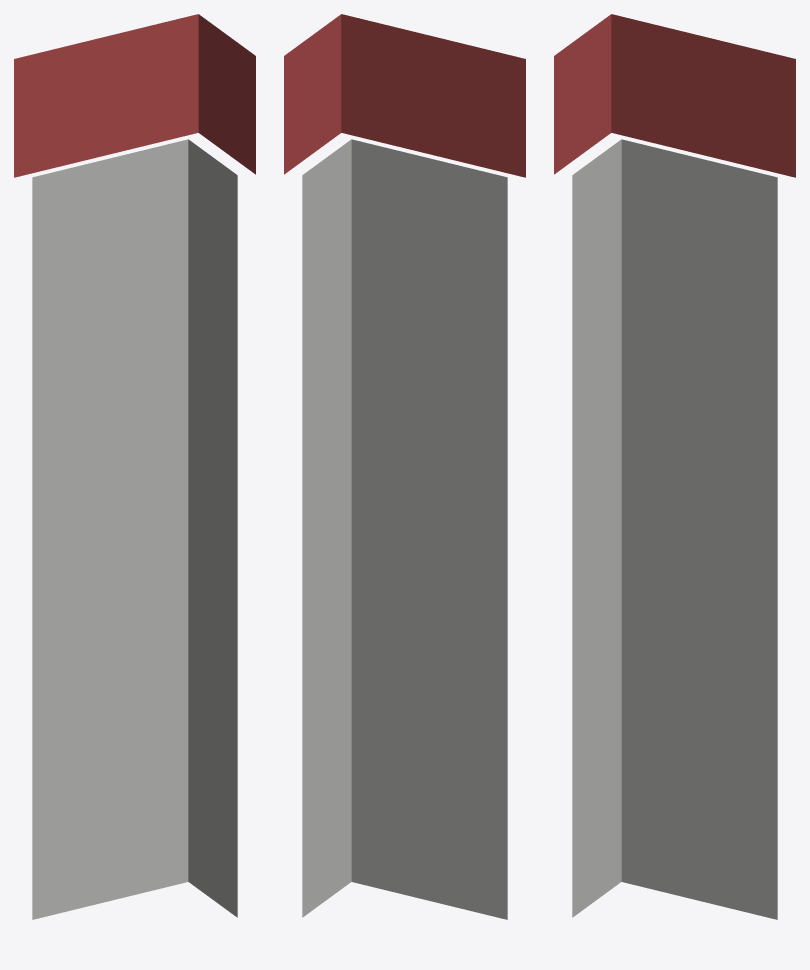
File: milestone.glb
3 views of the same model, side by side, from view 1: azimuth 30°, elevation 25°; view 2: azimuth 150°, elevation 25°; view 3: azimuth 330°, elevation 25° (orthographic).
Parts seen in each view (by area): view 1: asset; view 2: asset; view 3: asset.
Boxes of the visible parts, x1,y1,x2,y2 form: asset: (14,14,255,919); asset: (284,14,525,919); asset: (554,14,795,919).
Size of the model in its own units: 0.26 by 1.16 by 0.14.
